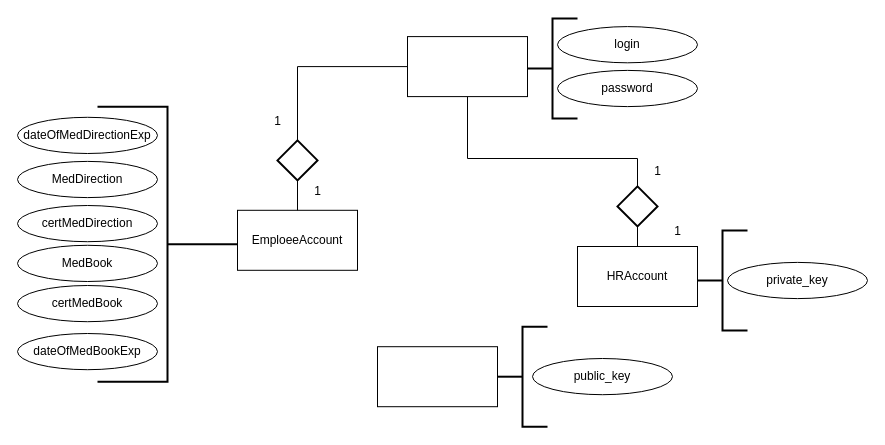
The diagram is 885 pixels wide and 445 high, and some of its shapes have lost their labels. The centre of each missing label's shape, as x and y in pixels:
Account: point (467, 66)
MedOrganization: point (437, 376)
